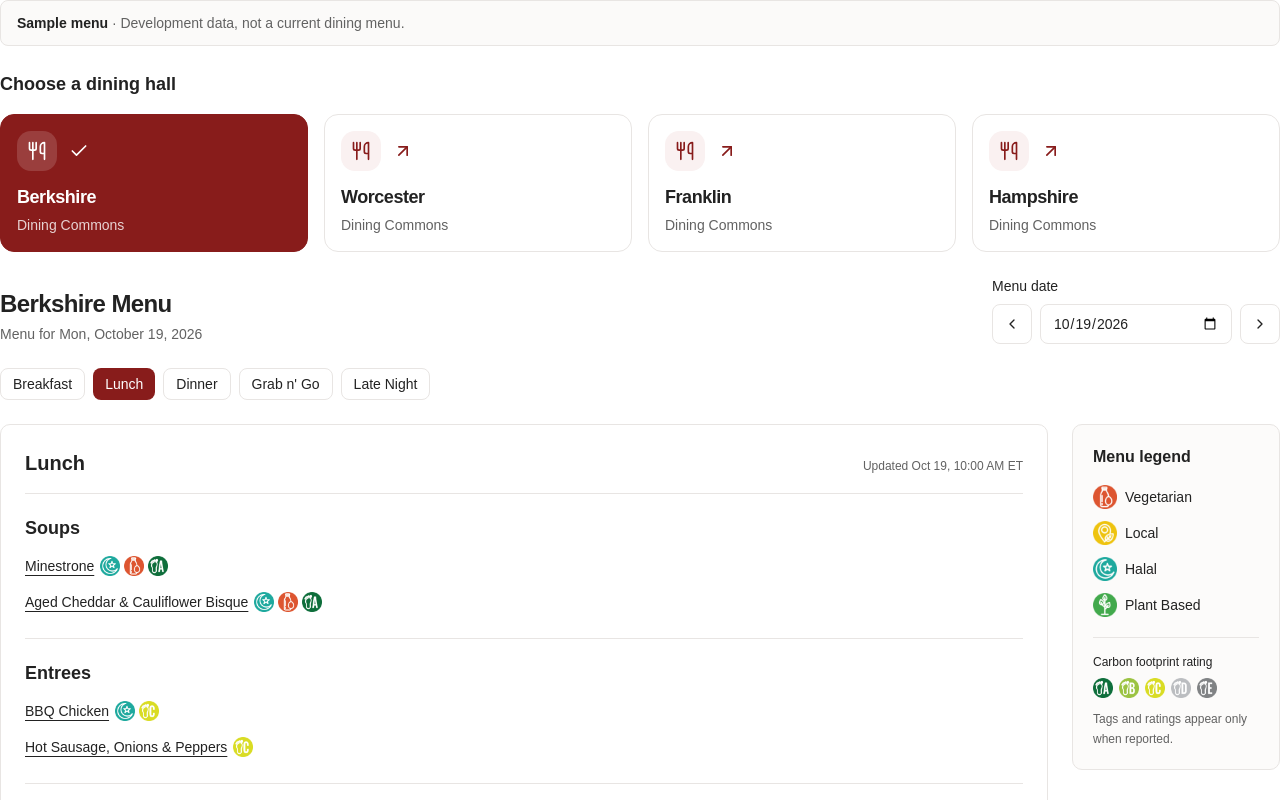
Test: Menus › renders missing nutrition and allergen data without inventing values
This screenshot has width=1280, height=800.
Click the button "Hot Sausage, Onions & Peppers".
click(126, 747)  # box [25,731,227,763]
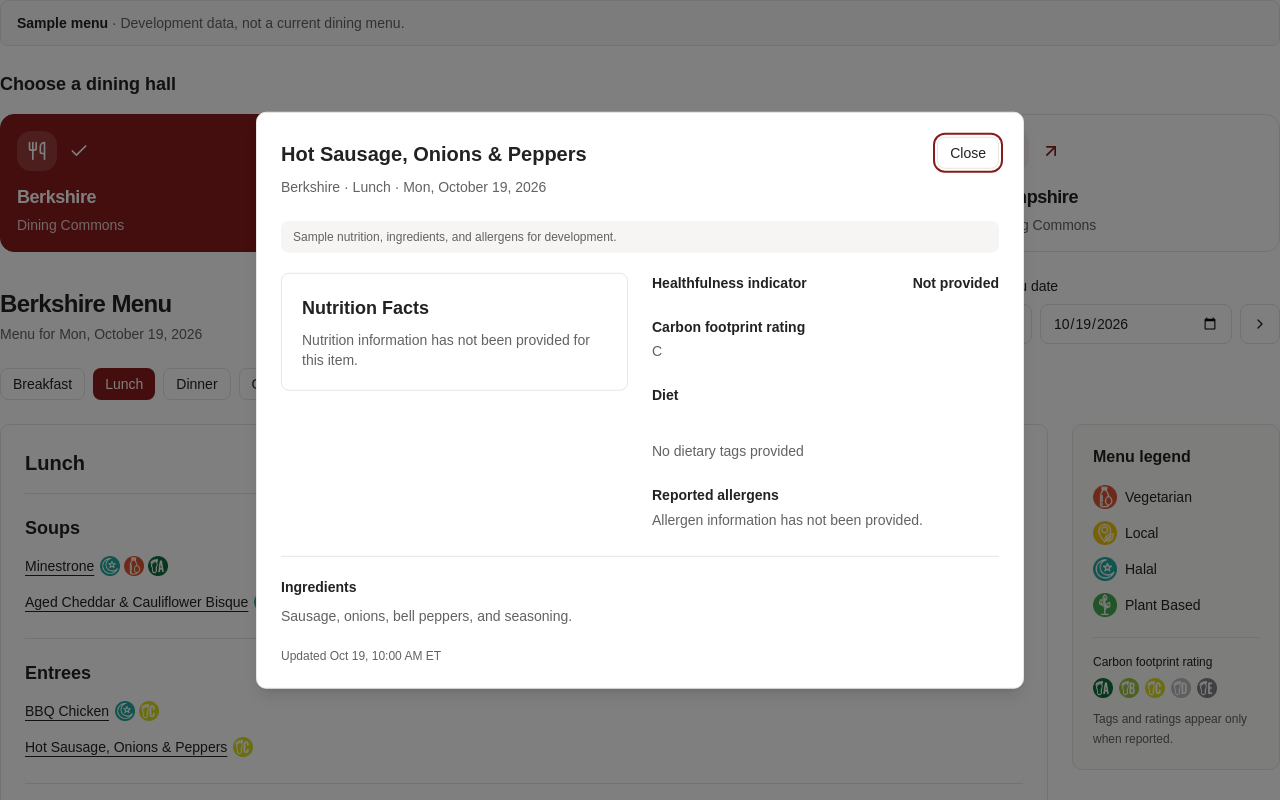
Expected: the text "Nutrition information has not been provided for this item." is shown, [302,330,607,370]
Expected: the text "Allergen information has not been provided." is shown, [652,512,923,528]
